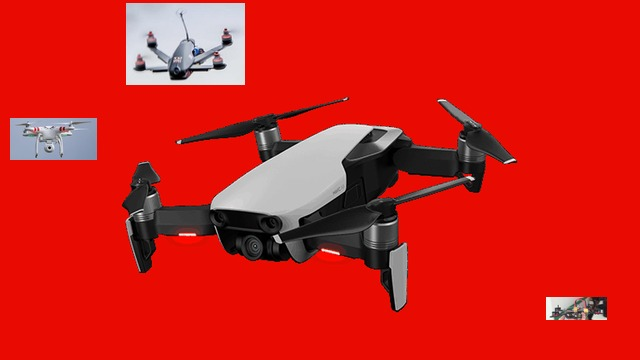drone: (120, 97, 517, 311), (126, 3, 245, 85), (10, 118, 97, 160), (546, 297, 607, 320)
